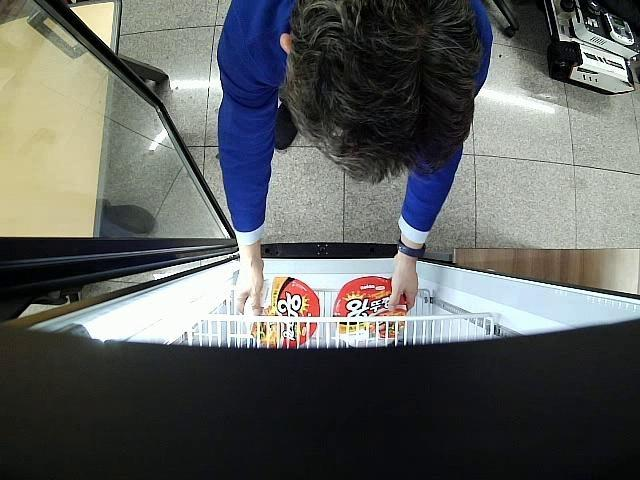10_wangTtukkeong: (243, 276, 320, 348), (333, 276, 408, 346)
